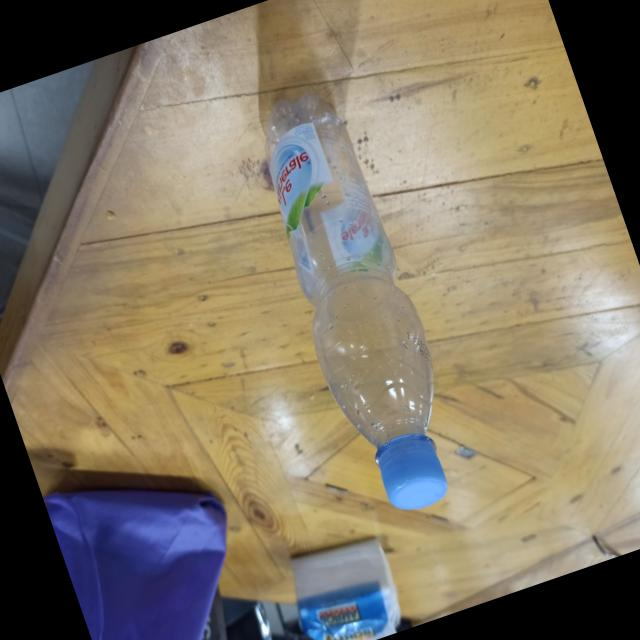BotolPlastik: (232, 79, 480, 526)
